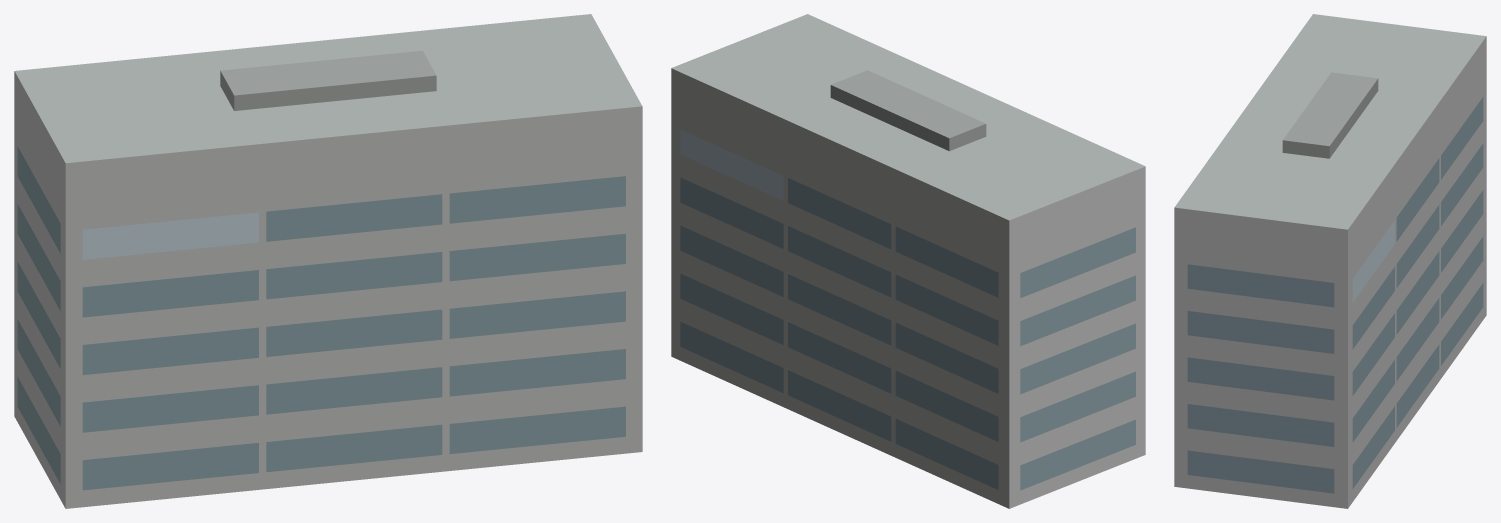
File: fallback-olympic-athletes-village-258.glb
3 views of the same model, side by side, from view 1: azimuth 30°, elevation 25°; view 2: azimuth 150°, elevation 25°; view 3: azimuth 270°, elevation 25° (orthographic). The views are drawn at different scales.
Parts seen in each view (by area): view 1: fallback-olympic-athletes-village-258; view 2: fallback-olympic-athletes-village-258; view 3: fallback-olympic-athletes-village-258.
Boxes of the visible parts, x1,y1,x2,y2 form: fallback-olympic-athletes-village-258: (14, 14, 642, 508); fallback-olympic-athletes-village-258: (671, 14, 1145, 508); fallback-olympic-athletes-village-258: (1174, 14, 1486, 508).
Size of the model in its own units: 30.32 by 19.12 by 18.55.
